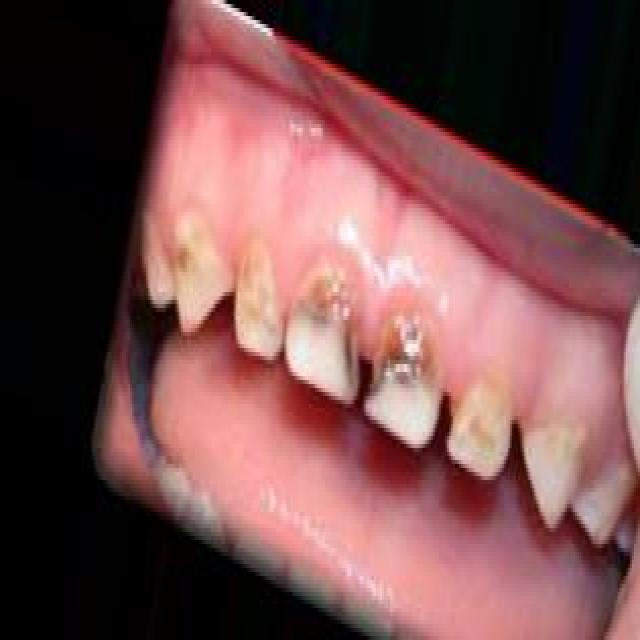caries: (365, 306, 438, 448), (286, 259, 358, 393), (444, 369, 510, 483), (234, 240, 283, 360), (173, 211, 221, 295)
